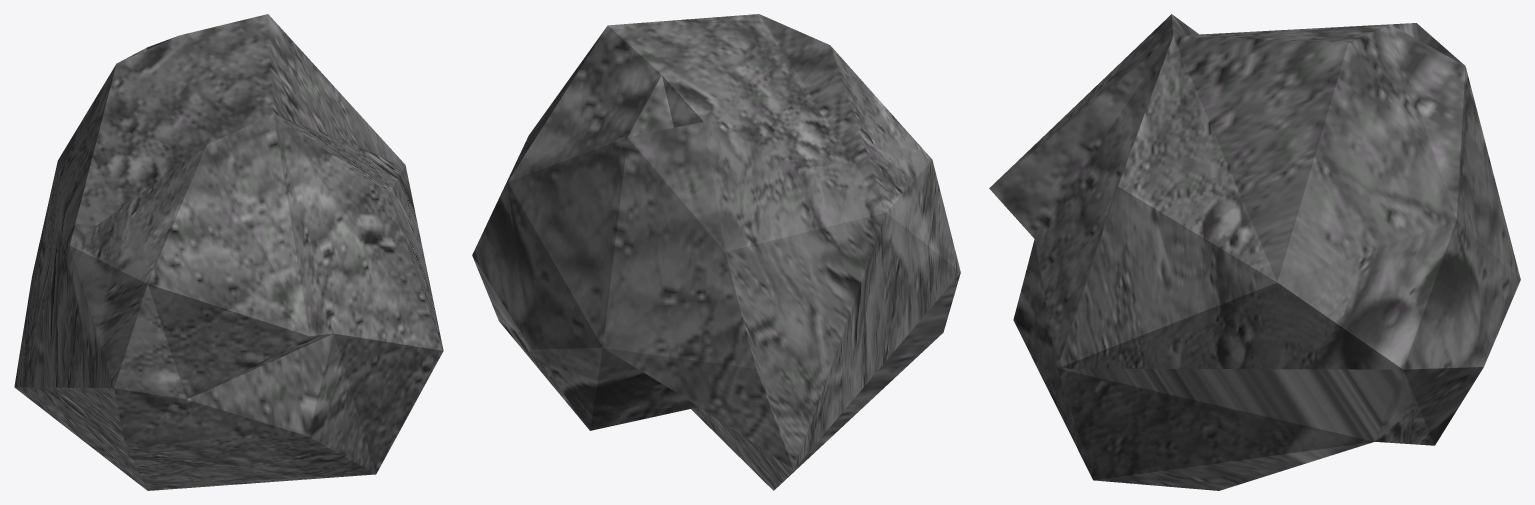
The model's file is asteroid_2.FBX.
The picture shows the model from 3 angles, left to right: view 1: azimuth 30°, elevation 25°; view 2: azimuth 150°, elevation 25°; view 3: azimuth 270°, elevation 25°; orthographic projection. The views are drawn at different scales.
Parts seen in each view (by area): view 1: adteroid_2; view 2: adteroid_2; view 3: adteroid_2.
Part boxes in pixels (<box>): adteroid_2: <box>14,14,443,490</box>; adteroid_2: <box>472,14,960,490</box>; adteroid_2: <box>989,14,1520,490</box>.
Bounding box in the file's own units: 0.1511 × 0.1749 × 0.1703.
